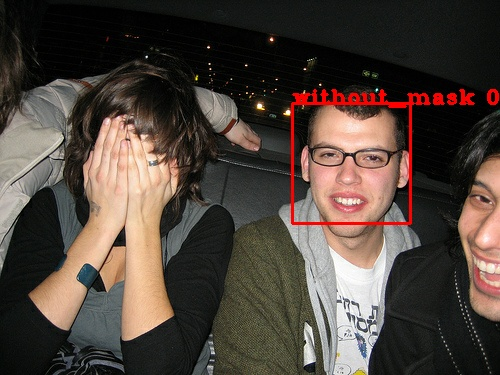without_mask: (73, 68, 203, 248), (299, 96, 410, 246), (443, 138, 500, 325)
